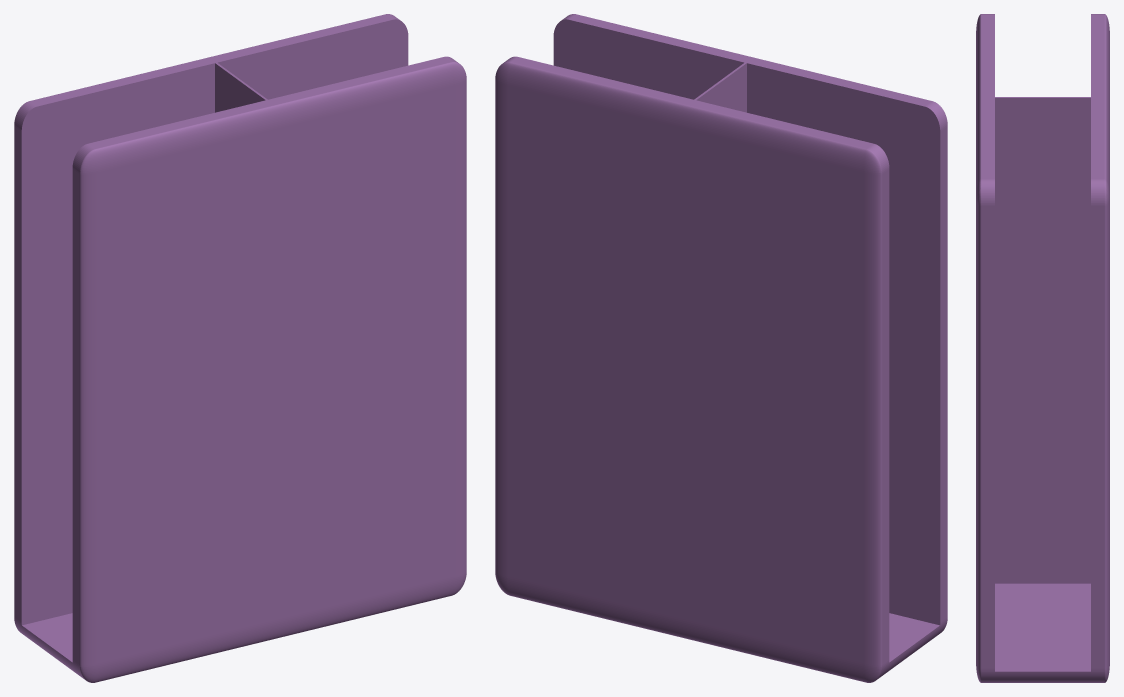
Rendered from spacer_cube_riser_180.glb.
The picture shows the model from 3 angles, left to right: view 1: azimuth 30°, elevation 25°; view 2: azimuth 150°, elevation 25°; view 3: azimuth 270°, elevation 25°; orthographic projection. The views are drawn at different scales.
Parts seen in each view (by area): view 1: Mesh_Mesh_head_geo.001_lambert2SG.001; view 2: Mesh_Mesh_head_geo.001_lambert2SG.001; view 3: Mesh_Mesh_head_geo.001_lambert2SG.001.
Boxes of the visible parts, <box> form: Mesh_Mesh_head_geo.001_lambert2SG.001: <box>14,14,466,682</box>; Mesh_Mesh_head_geo.001_lambert2SG.001: <box>495,14,947,682</box>; Mesh_Mesh_head_geo.001_lambert2SG.001: <box>976,14,1109,682</box>.
Size of the model in its own units: 0.0698 by 0.0921 by 0.0222.
